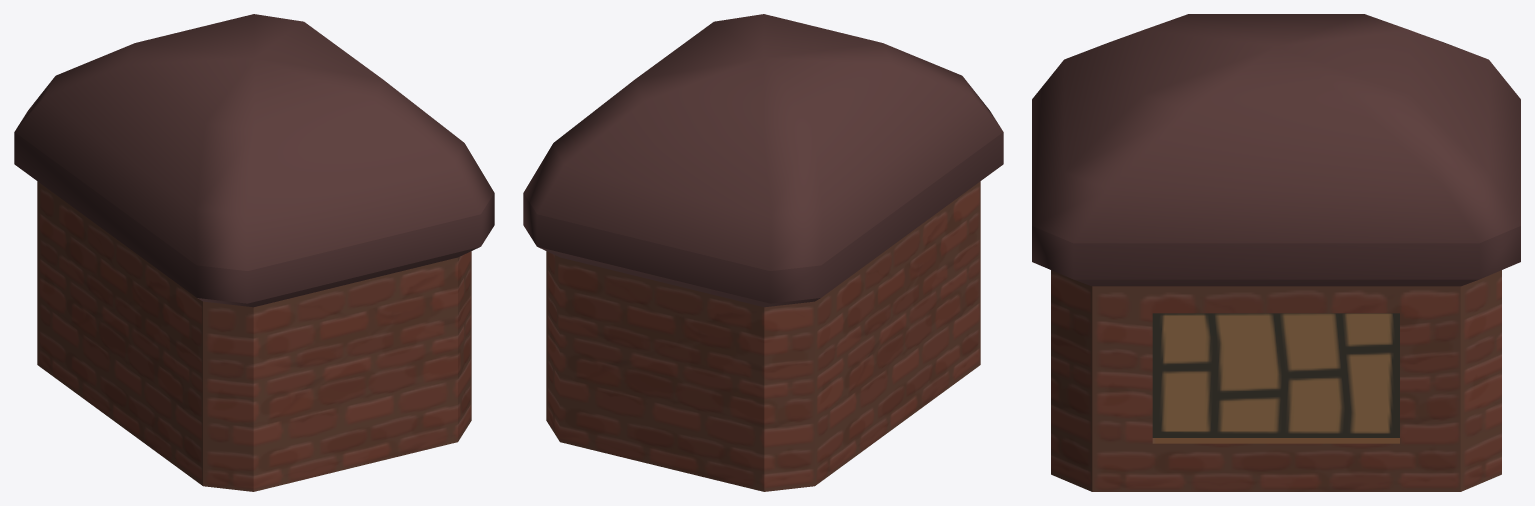
The model's file is House.fbx.
3 renders of one model, left to right at view 1: azimuth 30°, elevation 25°; view 2: azimuth 150°, elevation 25°; view 3: azimuth 270°, elevation 25°, orthographic. The views are drawn at different scales.
Visible parts, largest first — view 1: House; view 2: House; view 3: House.
Part boxes in pixels (x1,y1,x2,y2): House: (14,14,494,491); House: (523,14,1003,491); House: (1032,14,1520,491).
Size of the model in its own units: 371 by 399 by 474.
Materials: 1 (1 with a texture image).
